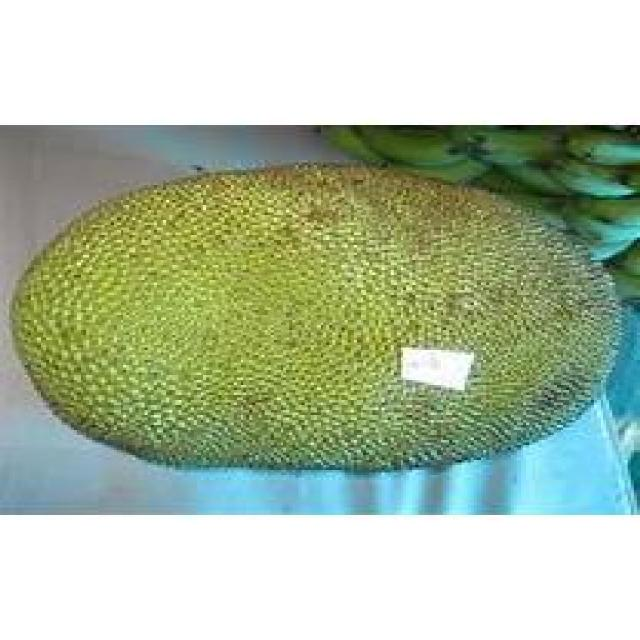Fruit: (255, 145, 640, 493), (0, 155, 394, 487)
